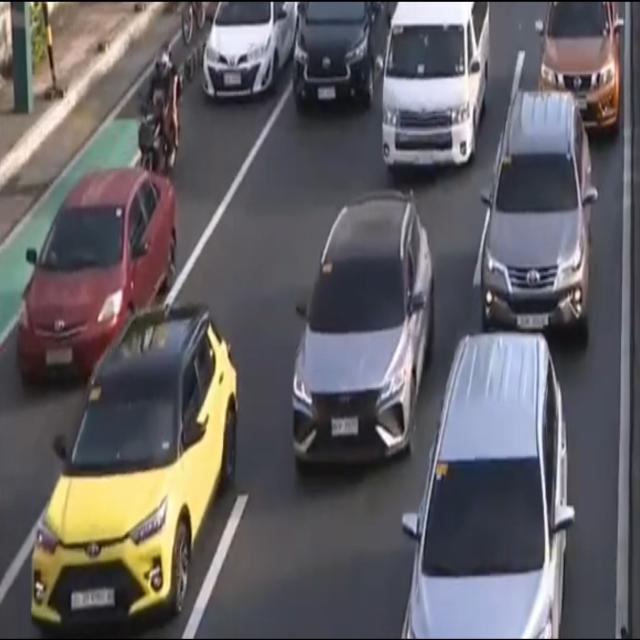Motorcycle: (136, 40, 182, 188)
SUV: (21, 296, 245, 640), (397, 330, 577, 640), (286, 186, 437, 475), (476, 88, 601, 344), (533, 0, 626, 136), (290, 0, 390, 116)
Sedan: (15, 164, 181, 386), (197, 0, 298, 109)
Van: (373, 0, 499, 183)
